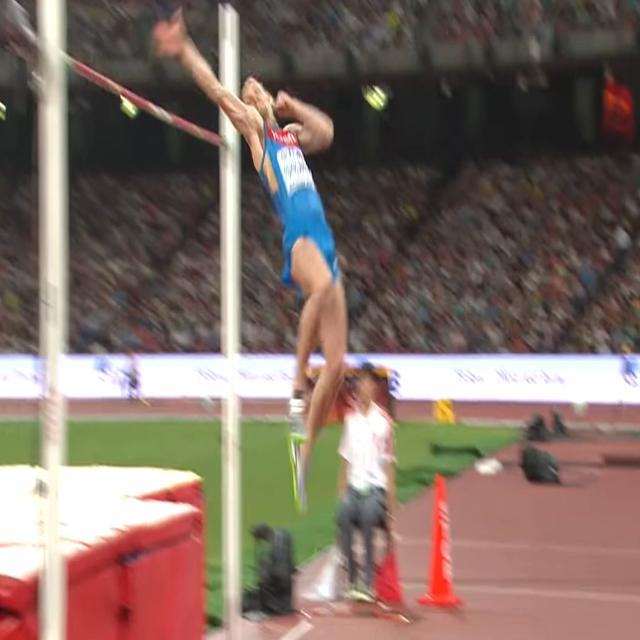jump: (153, 11, 345, 510)
